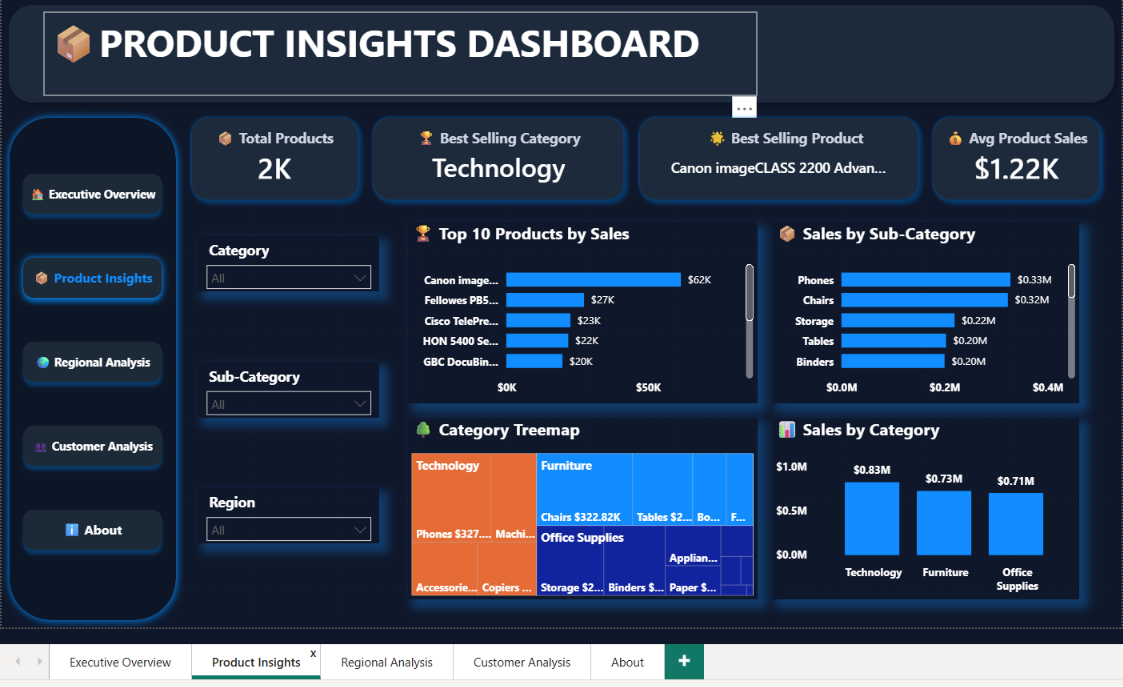

Layout of this report page (visuals, bound fields, positions):
{"tool":"powerbi","page":{"name":"Product Insights","canvas":[1280,720],"ordinal":1},"visuals":[{"type":"shape","box":[0,128,208,592],"z":0},{"type":"actionButton","box":[16,192,170,42],"z":1000},{"type":"actionButton","box":[16,288,170,42],"z":2000},{"type":"actionButton","box":[16,384,170,42],"z":3000},{"type":"actionButton","box":[16,480,170,42],"z":4000},{"type":"actionButton","box":[16,576,170,42],"z":5000},{"type":"shape","box":[0,0,1280,128],"z":6000},{"type":"textbox","box":[48,16,816,96],"z":7000},{"type":"shape","box":[208,128,208,112],"z":8000},{"type":"cardVisual","fields":{"Data":["Sales_Data.Total Products"]},"box":[224,160,176,64],"z":9000},{"type":"textbox","box":[224,144,176,32],"z":10000},{"type":"shape","box":[1056,128,208,112],"z":11000},{"type":"cardVisual","fields":{"Data":["Sales_Data.Average Product Sales"]},"box":[1072,160,176,64],"z":12000},{"type":"textbox","box":[1072,144,176,32],"z":13000},{"type":"shape","box":[416,128,304,112],"z":14000},{"type":"cardVisual","fields":{"Data":["Sales_Data.Best Selling Category"]},"box":[448,144,240,96],"z":15000},{"type":"textbox","box":[448,144,240,32],"z":16000},{"type":"shape","box":[720,128,336,112],"z":17000},{"type":"cardVisual","fields":{"Data":["Sales_Data.Best Selling Product"]},"box":[736,160,304,64],"z":18000},{"type":"textbox","box":[752,144,288,32],"z":19000},{"type":"slicer","fields":{"Values":["Sales_Data.Category"]},"box":[224,272,208,64],"z":20000},{"type":"slicer","fields":{"Values":["Sales_Data.Sub-Category"]},"box":[224,416,208,64],"z":21000},{"type":"slicer","fields":{"Values":["Sales_Data.Region"]},"box":[224,560,208,64],"z":22000},{"type":"clusteredBarChart","title":"🏆 Top 10 Products by Sales","fields":{"Category":["Sales_Data.Product Name"],"Y":["Sales_Data.Total Sales"]},"box":[464,256,400,208],"z":23000},{"type":"clusteredBarChart","title":"📦 Sales by Sub-Category ","fields":{"Category":["Sales_Data.Sub-Category"],"Y":["Sales_Data.Total Sales"]},"box":[880,256,352,208],"z":24000},{"type":"treemap","title":"🌳 Category Treemap ","fields":{"Group":["Sales_Data.Category"],"Details":["Sales_Data.Sub-Category"],"Values":["Sales_Data.Total Sales"]},"box":[464,480,400,208],"z":25000},{"type":"clusteredColumnChart","title":"📊 Sales by Category ","fields":{"Category":["Sales_Data.Category"],"Y":["Sales_Data.Total Sales"]},"box":[880,480,352,208],"z":26000}]}

Visuals, with their boxes on the page's 1280x720 design canvas (x1, y1, x2, y2). These are canvas units, not pixel positions in the 1123x687 screenshot, which may show the page scaled, cropped or inside an application window:
shape: 0:128:208:720
actionButton: 16:192:186:234
actionButton: 16:288:186:330
actionButton: 16:384:186:426
actionButton: 16:480:186:522
actionButton: 16:576:186:618
shape: 0:0:1280:128
textbox: 48:16:864:112
shape: 208:128:416:240
cardVisual - Sales_Data.Total Products: 224:160:400:224
textbox: 224:144:400:176
shape: 1056:128:1264:240
cardVisual - Sales_Data.Average Product Sales: 1072:160:1248:224
textbox: 1072:144:1248:176
shape: 416:128:720:240
cardVisual - Sales_Data.Best Selling Category: 448:144:688:240
textbox: 448:144:688:176
shape: 720:128:1056:240
cardVisual - Sales_Data.Best Selling Product: 736:160:1040:224
textbox: 752:144:1040:176
slicer - Sales_Data.Category: 224:272:432:336
slicer - Sales_Data.Sub-Category: 224:416:432:480
slicer - Sales_Data.Region: 224:560:432:624
"🏆 Top 10 Products by Sales" clusteredBarChart: 464:256:864:464
"📦 Sales by Sub-Category " clusteredBarChart: 880:256:1232:464
"🌳 Category Treemap " treemap: 464:480:864:688
"📊 Sales by Category " clusteredColumnChart: 880:480:1232:688
